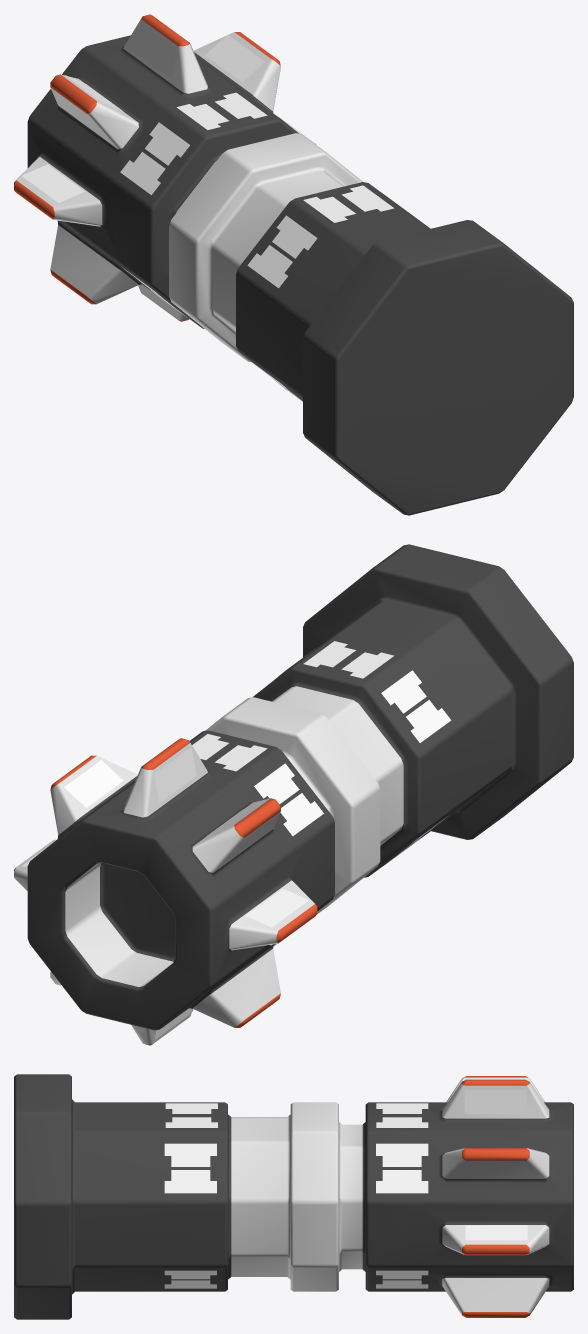
File: Cannon.dae
The picture shows the model from 3 angles, top to bottom: view 1: azimuth 30°, elevation 25°; view 2: azimuth 150°, elevation 25°; view 3: azimuth 270°, elevation 25°; orthographic projection. The views are drawn at different scales.
Visible parts, largest first — view 1: Cannon; view 2: Cannon; view 3: Cannon.
Part boxes in pixels (x1,y1,x2,y2): Cannon: (14, 14, 573, 515); Cannon: (14, 544, 573, 1045); Cannon: (14, 1074, 573, 1319).
Bounding box in the file's own units: 0.5001 × 1.09 × 0.5001.
